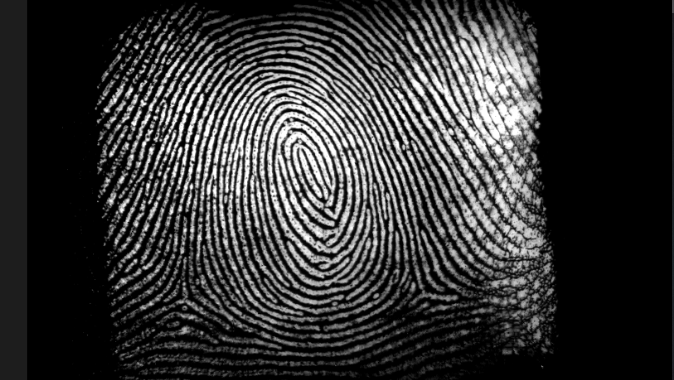nucelo: (278, 126, 338, 195)
verticilo: (161, 280, 204, 316), (401, 276, 438, 309)
